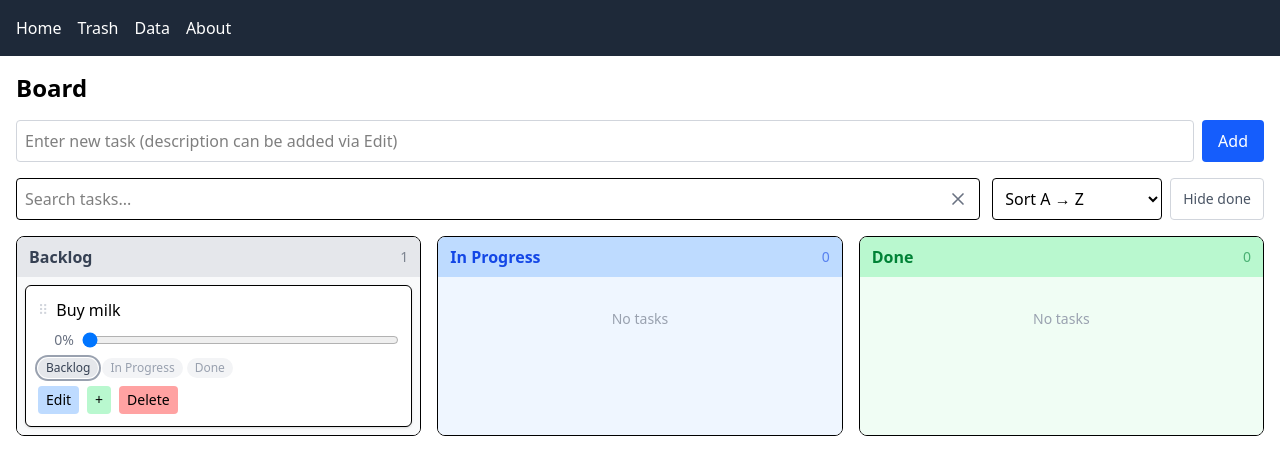
deleting a task removes it from the home page
Click the button "Delete".
click(148, 400)  # box [119,386,178,414]
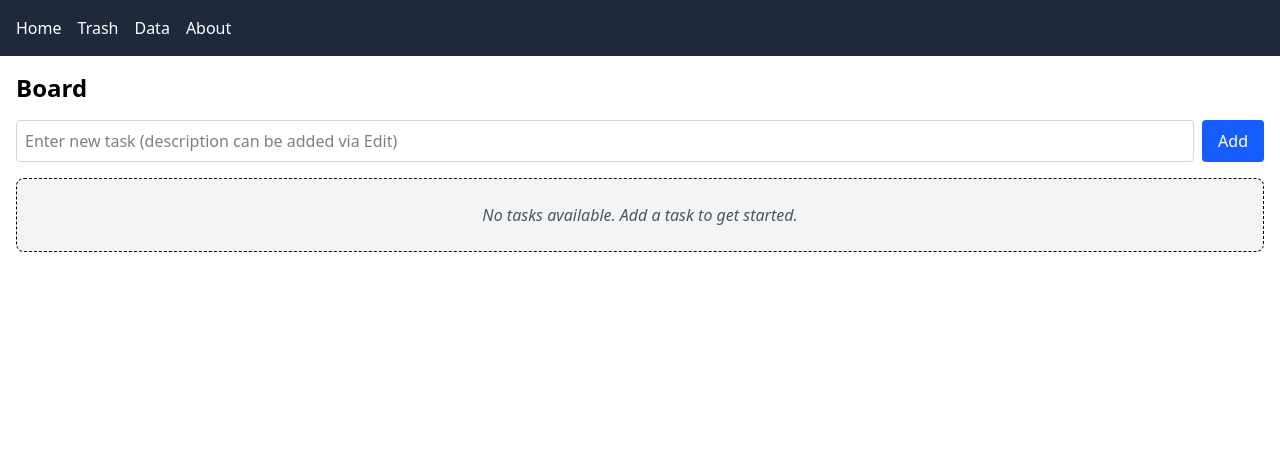
Now the text "Buy milk" is gone
